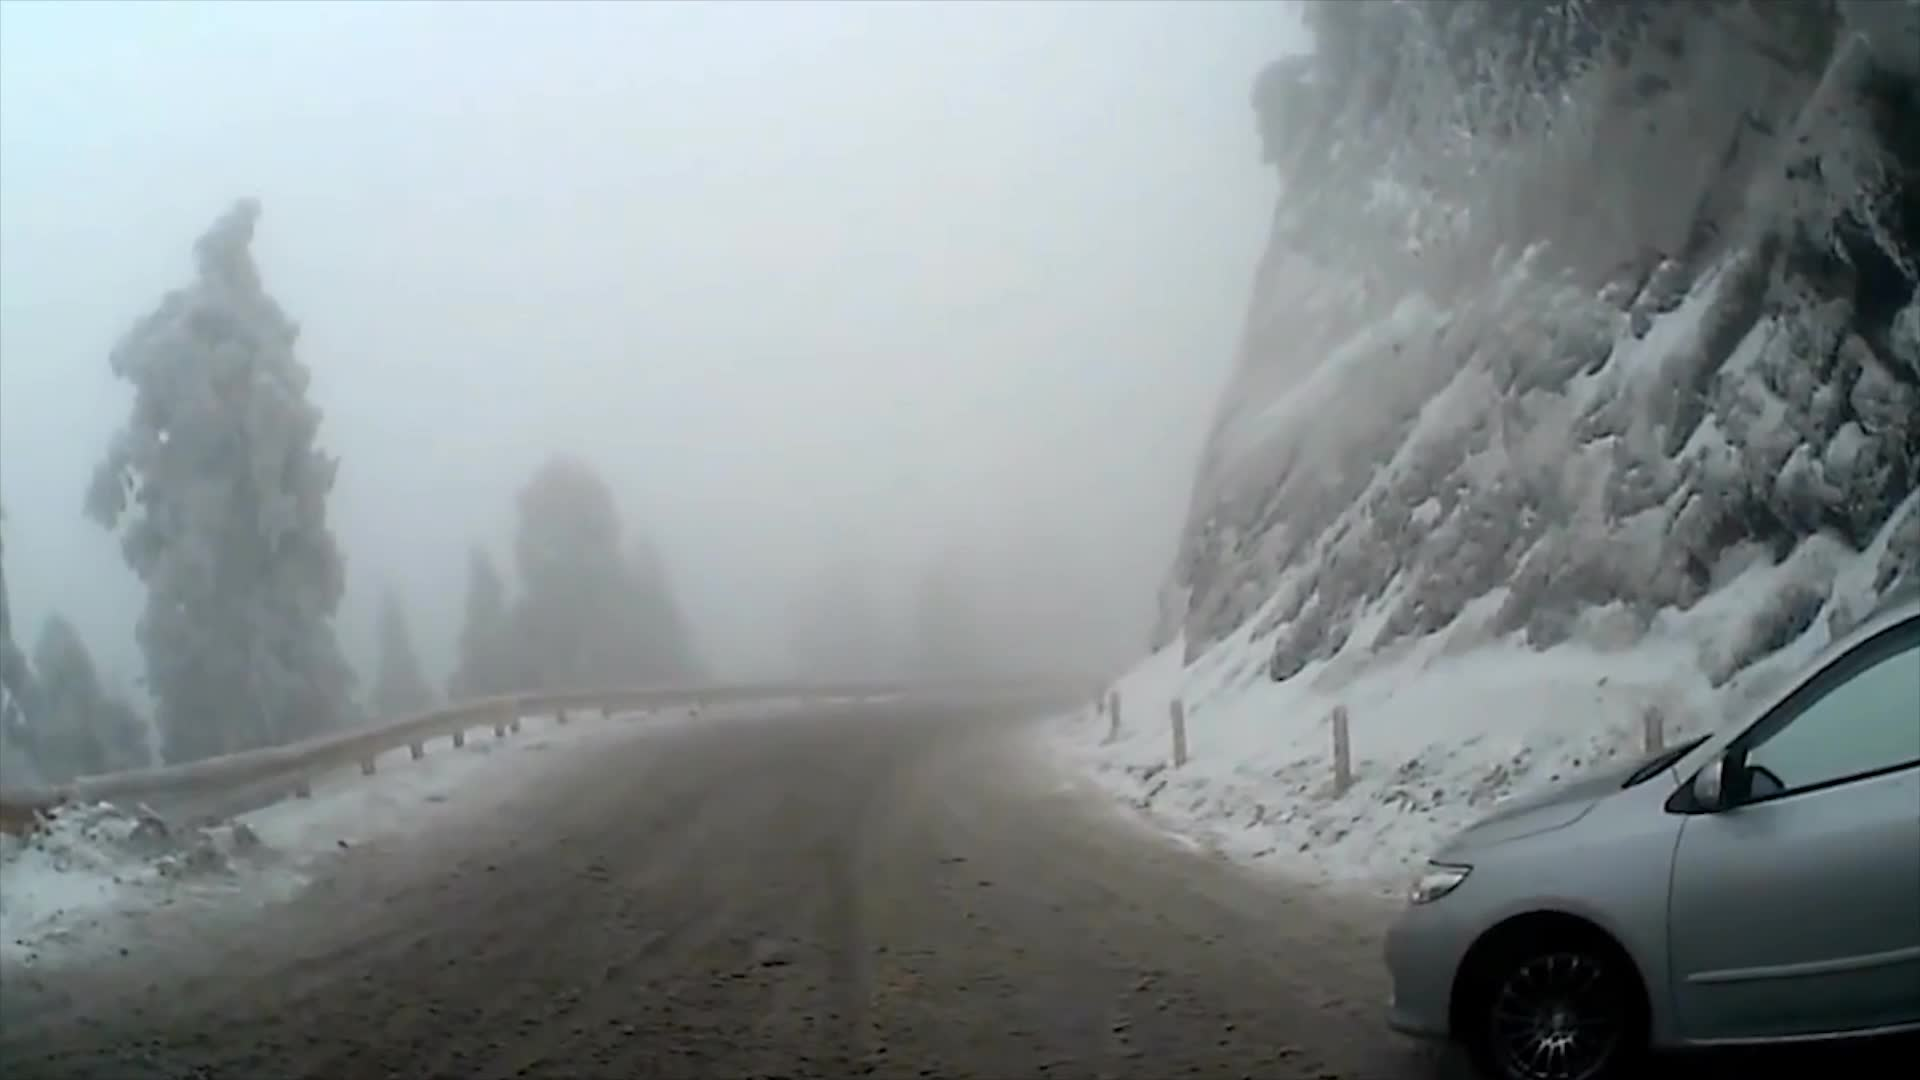vehicle: (1387, 591, 1920, 1080)
